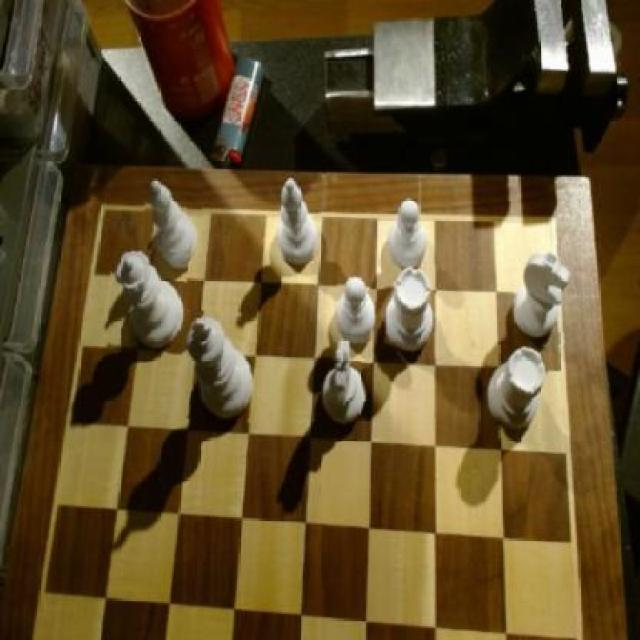black-rook: (143, 177, 203, 271), (272, 175, 320, 267)
white-bishop: (183, 312, 256, 424)
white-king: (514, 244, 575, 346), (317, 335, 372, 431)
white-knight: (336, 275, 382, 354), (386, 194, 432, 268)
white-pawn: (108, 248, 187, 354)
white-queen: (483, 344, 548, 440), (384, 266, 438, 360)
